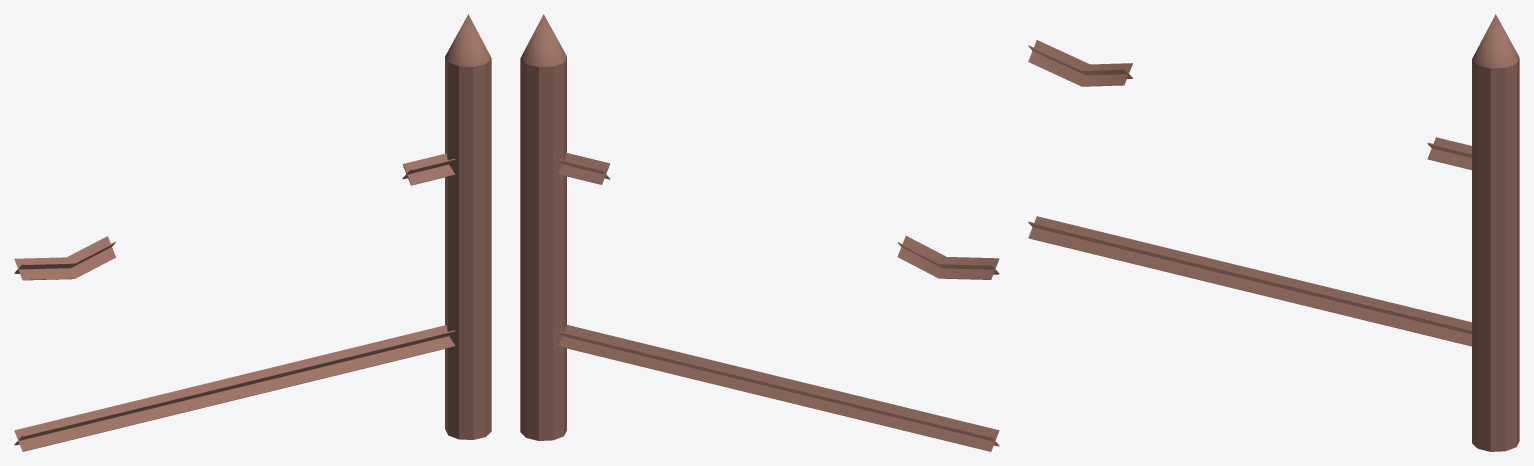
Rendered from Fence_2.fbx.
3 views of the same model, side by side, from view 1: azimuth 30°, elevation 25°; view 2: azimuth 150°, elevation 25°; view 3: azimuth 330°, elevation 25° (orthographic). The views are drawn at different scales.
Visible parts, largest first — view 1: Fence_2; view 2: Fence_2; view 3: Fence_2.
Boxes of the visible parts, x1,y1,x2,y2 form: Fence_2: [14, 14, 491, 451]; Fence_2: [520, 14, 999, 451]; Fence_2: [1028, 14, 1519, 451].
Bounding box in the file's own units: 1.95 × 1.65 × 0.1599.
